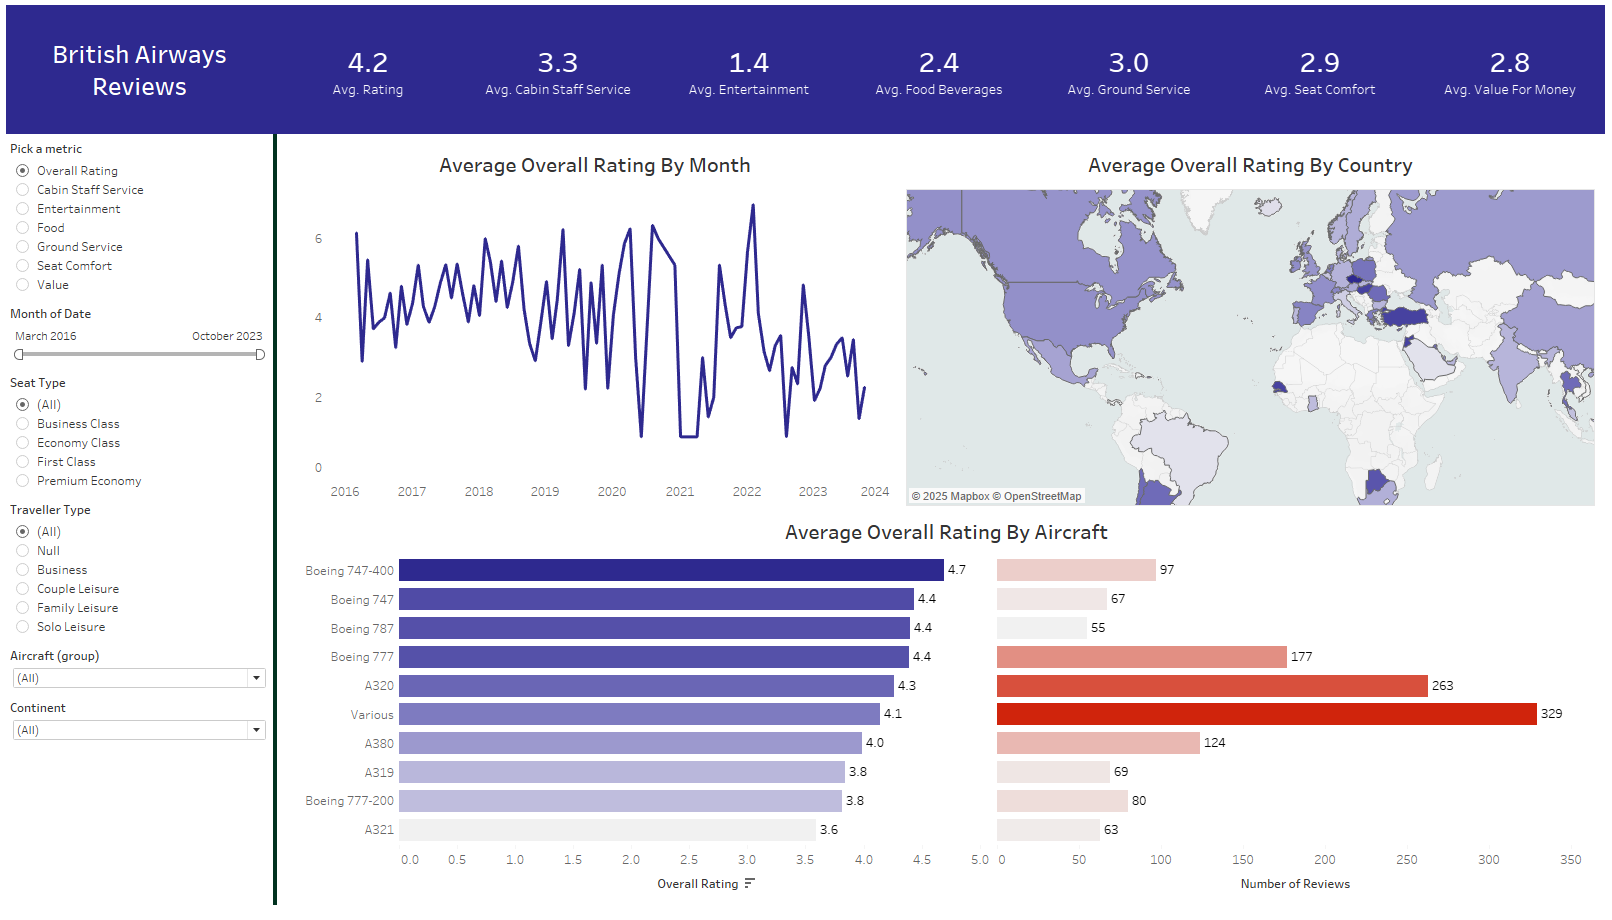

This screenshot's page, from the dashboard's own definition file:
{"tool":"tableau","page":{"name":"Dashboard","canvas":[1600,900],"ordinal":0},"visuals":[{"type":"text","box":[0,0,266.7,128.6]},{"type":"worksheet","title":"summary","mark":"Automatic","box":[266.7,0,1332,128.6]},{"type":"blank","box":[266.7,128.6,4,771.4]},{"type":"parameter","param":"[Parameters].[Parameter 1]","box":[0,131.1,266.7,165]},{"type":"worksheet","title":"Month","mark":"Automatic","rows":["Calculation_467529988195790848"],"cols":["date"],"box":[293.3,141.4,592,360]},{"type":"worksheet","title":"Map","mark":"Automatic","box":[900,141.4,689.3,360]},{"type":"filter","title":"Map","param":"[federated.1pcnwoo1g4pvph10ksfk00hadk1e].[tmn:date:qk]","box":[0,296.1,266.7,69]},{"type":"filter","title":"Map","param":"[federated.1pcnwoo1g4pvph10ksfk00hadk1e].[none:seat_type:nk]","box":[0,365.1,266.7,127]},{"type":"filter","title":"Map","param":"[federated.1pcnwoo1g4pvph10ksfk00hadk1e].[none:traveller_type:nk]","box":[0,492.1,266.7,146]},{"type":"worksheet","title":"Aircraft","mark":"Automatic","cols":["Calculation_467529988195790848","ba_reviews.csv_693B5AD7C0CC43C9AB5E245D8FB67E5F"],"box":[293.3,507.9,1294.7,385.7]},{"type":"filter","title":"Map","param":"[federated.1pcnwoo1g4pvph10ksfk00hadk1e].[Aircraft (group)]","box":[0,638.1,266.7,52]},{"type":"filter","title":"Map","param":"[federated.1pcnwoo1g4pvph10ksfk00hadk1e].[none:Continent:nk]","box":[0,690.1,266.7,52]}]}

Visuals, with their boxes in screenshot pixels (x1, y1, x2, y2), scaled from the page's 1600x900 canvas onto the 1612x920 screenshot:
text: <bbox>0, 0, 269, 131</bbox>
"summary" worksheet: <bbox>269, 0, 1611, 131</bbox>
blank: <bbox>269, 131, 273, 919</bbox>
parameter: <bbox>0, 134, 269, 303</bbox>
"Month" worksheet: <bbox>295, 145, 892, 513</bbox>
"Map" worksheet: <bbox>907, 145, 1601, 513</bbox>
"Map" filter: <bbox>0, 303, 269, 373</bbox>
"Map" filter: <bbox>0, 373, 269, 503</bbox>
"Map" filter: <bbox>0, 503, 269, 652</bbox>
"Aircraft" worksheet: <bbox>295, 519, 1600, 913</bbox>
"Map" filter: <bbox>0, 652, 269, 705</bbox>
"Map" filter: <bbox>0, 705, 269, 759</bbox>
